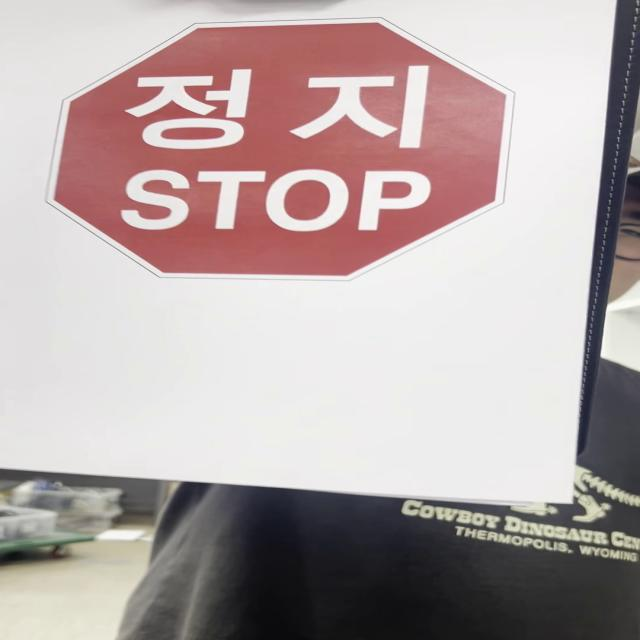stop: (49, 17, 518, 285)
